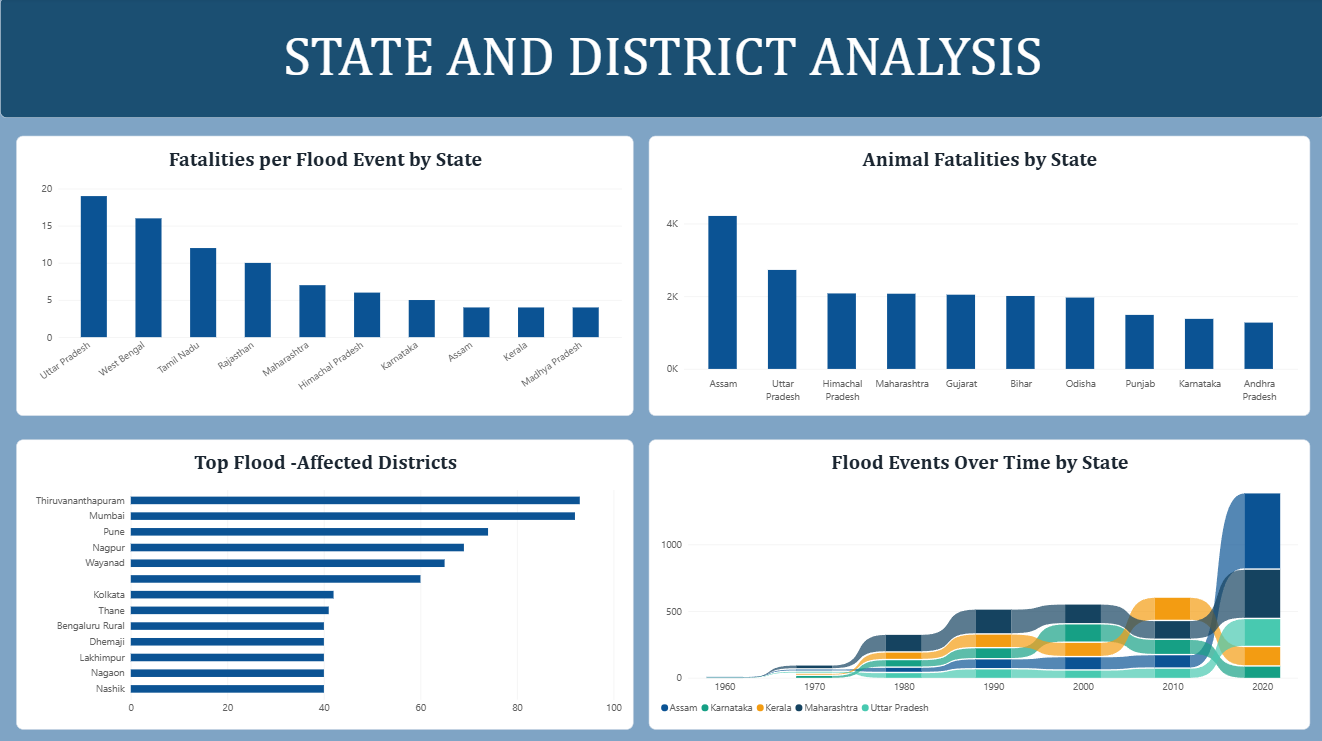

What the dashboard file says about the page in this screenshot:
{"tool":"powerbi","page":{"name":"State Analysis","canvas":[1920,1080],"ordinal":1},"visuals":[{"type":"barChart","title":"Top Flood -Affected Districts","fields":{"Category":["India_Flood_Inventory_v3.Districts"],"Y":["India_Flood_Inventory_v3.Total Flood Events"]},"box":[23.5,640.6,894,419.8],"z":0},{"type":"textbox","box":[0,0,1920.1,175.5],"z":1000},{"type":"clusteredColumnChart","fields":{"Y":["India_Flood_Inventory_v3.Fatalities per Flood Event"],"Category":["India_Flood_Inventory_v3.State"]},"box":[23.5,200.9,894,405.4],"z":2000},{"type":"ribbonChart","title":"Flood Events Over Time by State","fields":{"Category":["DateTable.Decade"],"Y":["India_Flood_Inventory_v3.Total Flood Events"],"Series":["India_Flood_Inventory_v3.State"]},"box":[939.2,640.6,957.3,419.8],"z":3000},{"type":"clusteredColumnChart","title":" Animal Fatalities by State","fields":{"Category":["India_Flood_Inventory_v3.State"],"Y":["India_Flood_Inventory_v3.Total Animal Fatalities"]},"box":[939.2,200.9,957.3,405.4],"z":4000}]}

Visuals, with their boxes in screenshot pixels (x1, y1, x2, y2), scaled from the page's 1920x1080 canvas onto the 1322x741 screenshot:
"Top Flood -Affected Districts" barChart: [x1=16, y1=440, x2=632, y2=728]
textbox: [x1=0, y1=0, x2=1321, y2=120]
clusteredColumnChart - India_Flood_Inventory_v3.Fatalities per Flood Event x India_Flood_Inventory_v3.State: [x1=16, y1=138, x2=632, y2=416]
"Flood Events Over Time by State" ribbonChart: [x1=647, y1=440, x2=1306, y2=728]
" Animal Fatalities by State" clusteredColumnChart: [x1=647, y1=138, x2=1306, y2=416]
